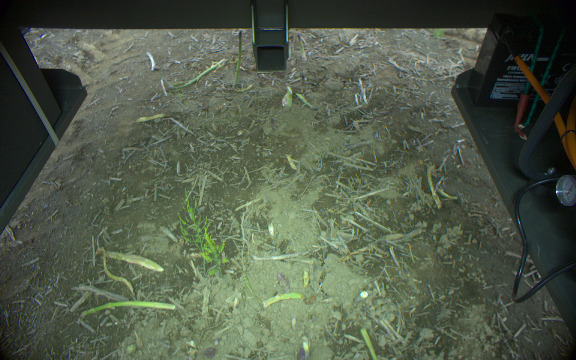aspa: (171, 57, 227, 93), (79, 300, 178, 318), (229, 30, 243, 90), (263, 292, 303, 308), (359, 326, 376, 360), (295, 33, 307, 59), (276, 272, 292, 291)
